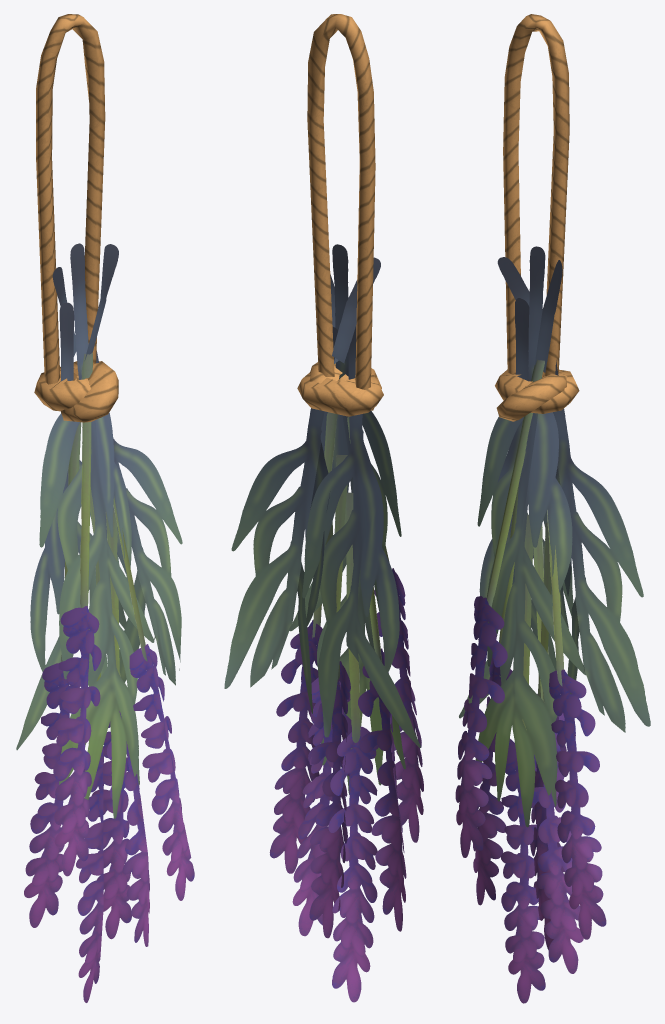
Rendered from SM_Potion_Props_Herb_Broom_Wall_03.fbx.
The picture shows the model from 3 angles, left to right: view 1: azimuth 30°, elevation 25°; view 2: azimuth 150°, elevation 25°; view 3: azimuth 330°, elevation 25°; orthographic projection. The views are drawn at different scales.
Parts seen in each view (by area): view 1: SM_Potion_Props_Herb_Broom_Wall_03_LOD0; view 2: SM_Potion_Props_Herb_Broom_Wall_03_LOD0; view 3: SM_Potion_Props_Herb_Broom_Wall_03_LOD0.
Part boxes in pixels (box(x1,y1,x2,y2)): SM_Potion_Props_Herb_Broom_Wall_03_LOD0: box(16, 14, 194, 1002); SM_Potion_Props_Herb_Broom_Wall_03_LOD0: box(224, 14, 423, 1002); SM_Potion_Props_Herb_Broom_Wall_03_LOD0: box(455, 14, 650, 1003).
Size of what is drawn, in the model's own units: 16.37 by 85.11 by 8.69.
